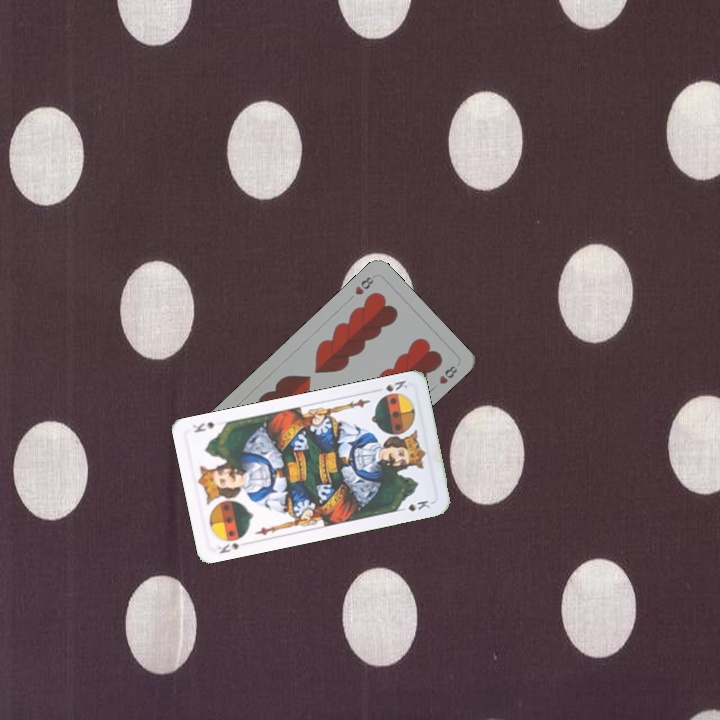H8: (351, 271, 378, 298)
SK: (213, 532, 248, 557), (381, 376, 410, 394)
